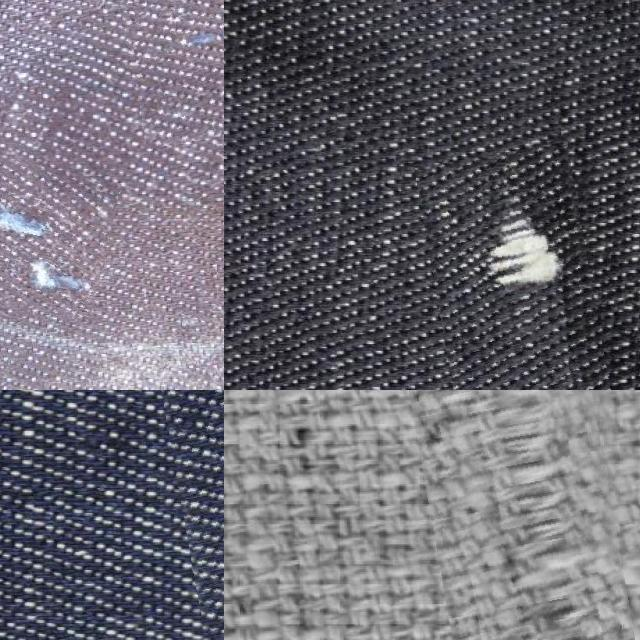stains: (403, 390, 636, 640), (424, 147, 600, 390), (0, 155, 113, 314), (119, 0, 224, 143), (177, 390, 224, 640)
